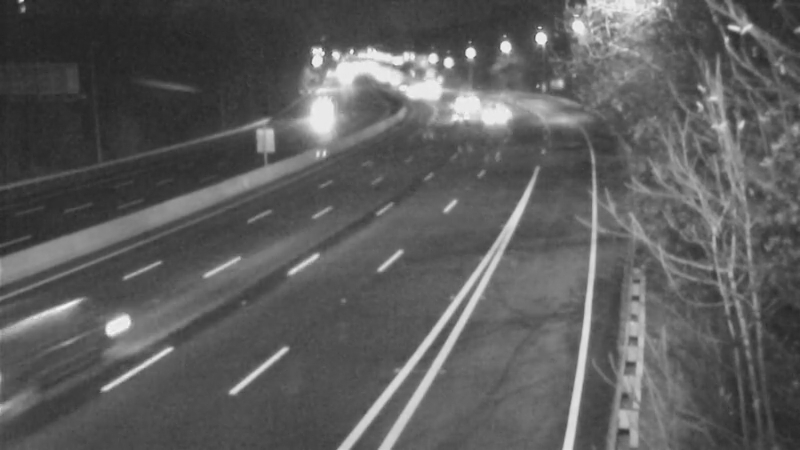vehicle: (1, 318, 98, 428), (439, 74, 489, 124), (432, 88, 482, 138), (470, 92, 520, 142), (298, 79, 348, 129)
